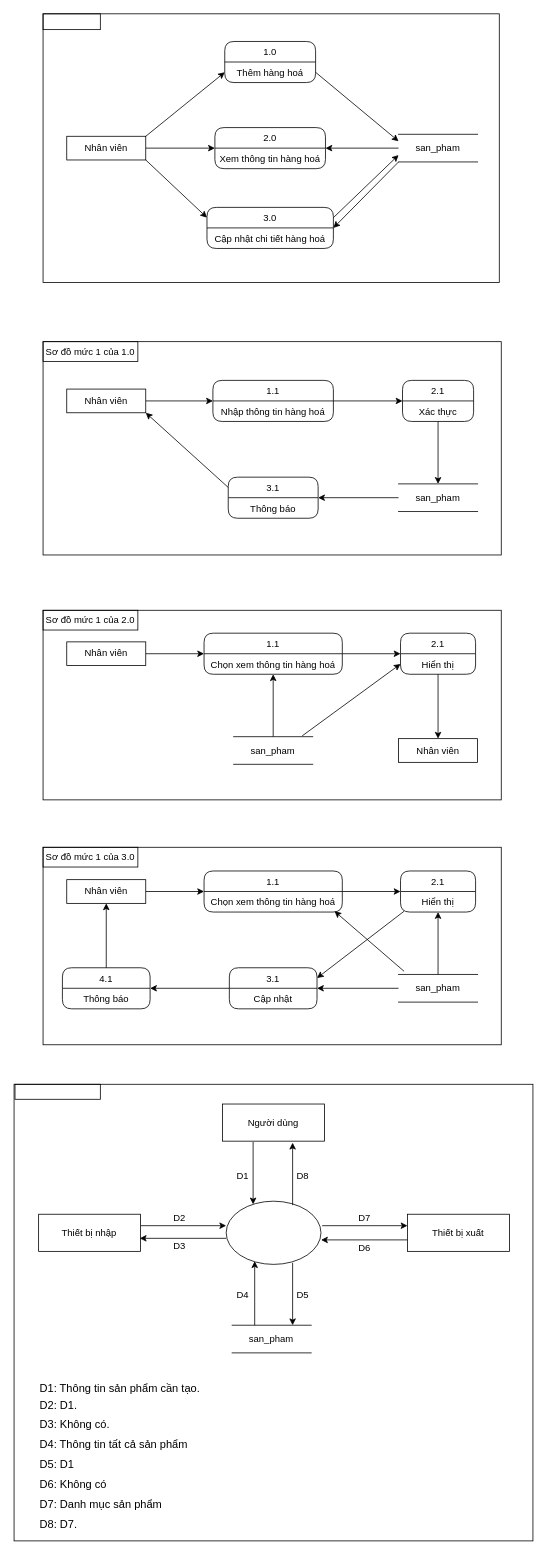
Some shapes in this 547 by 1555 pixel diagram are drawn without their labels. Each missing label, with the box of its shape:
Quản lí kho: (225, 1200, 321, 1264)
Sơ đồ mức 0: (42, 13, 100, 30)
Sơ đồ tổng quát: (14, 1083, 100, 1099)
